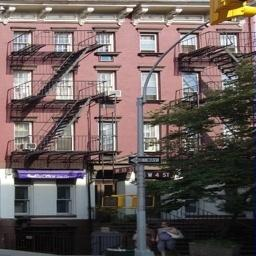building: (10, 2, 256, 220)
